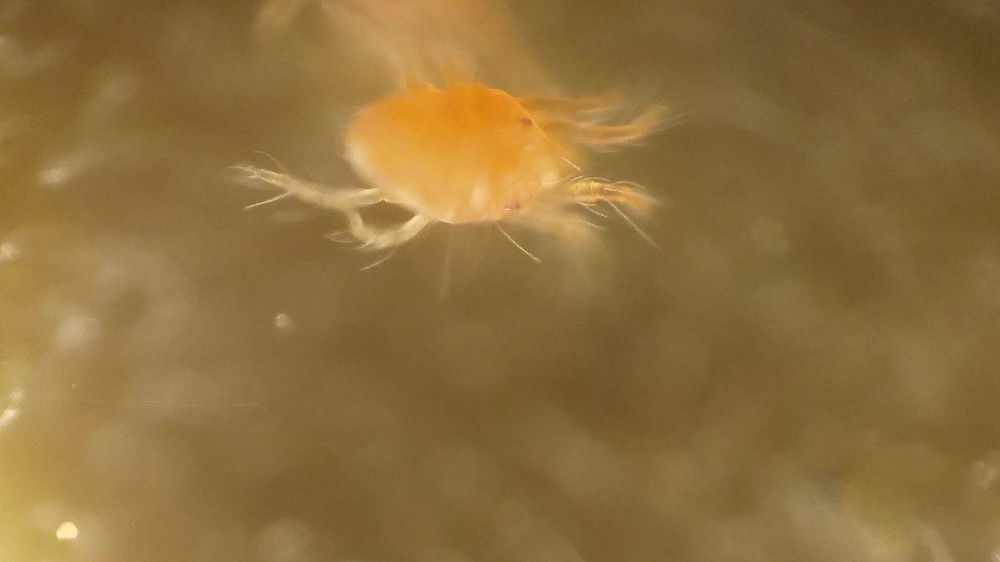Aracnido Rojo: (252, 9, 719, 299)
